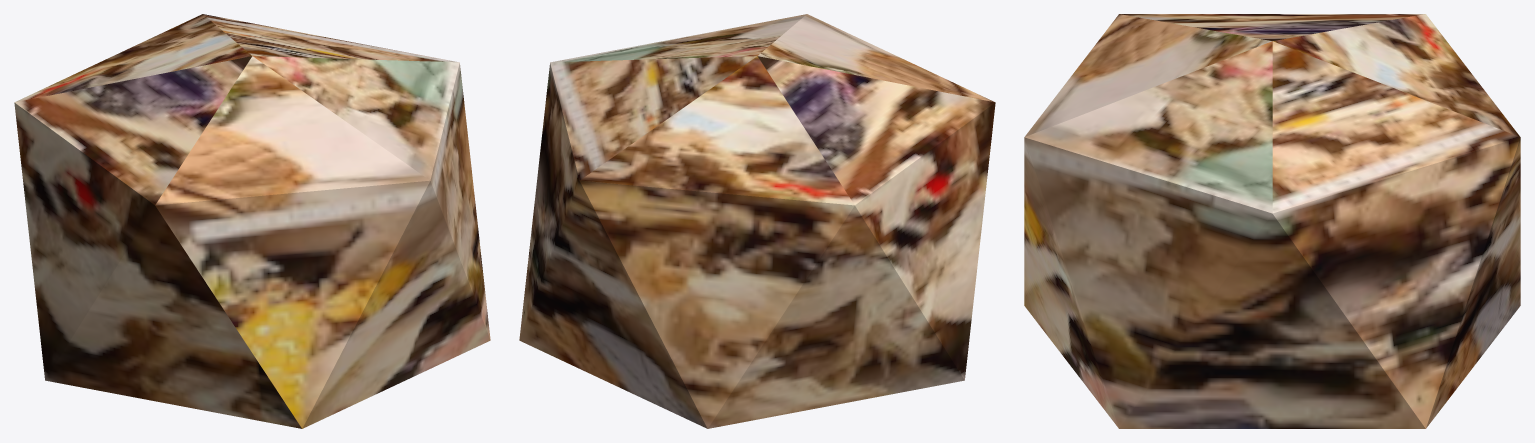
File: PapelSucata.glb
The picture shows the model from 3 angles, left to right: view 1: azimuth 30°, elevation 25°; view 2: azimuth 150°, elevation 25°; view 3: azimuth 270°, elevation 25°; orthographic projection. The views are drawn at different scales.
Parts seen in each view (by area): view 1: Icosphere; view 2: Icosphere; view 3: Icosphere.
Boxes of the visible parts, x1,y1,x2,y2 form: Icosphere: (14,14,490,428); Icosphere: (519,14,995,428); Icosphere: (1024,14,1520,428).
Bounding box in the file's own units: 1.72 × 1.31 × 1.63.
1 material, 1 textured.
